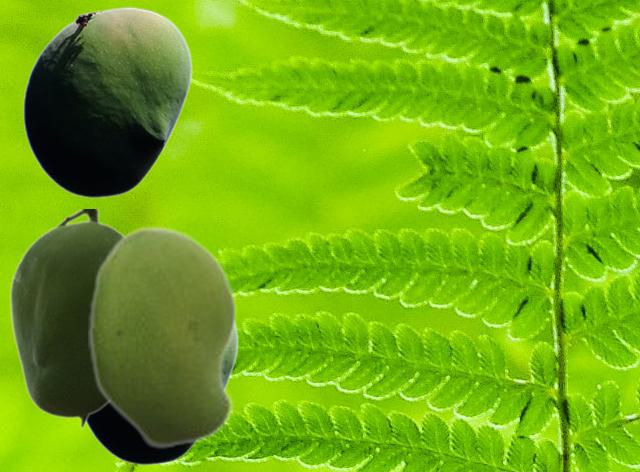green_mango: (88, 225, 237, 449), (22, 6, 192, 197), (8, 209, 123, 428), (86, 326, 238, 464)
